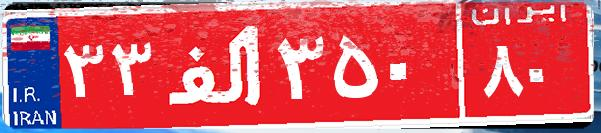0: (385, 28, 445, 110), (525, 38, 570, 115)
3: (273, 28, 330, 110), (57, 26, 110, 107), (110, 28, 158, 105)
5: (330, 28, 385, 110)
8: (475, 38, 525, 113)
الف: (158, 15, 273, 115)
